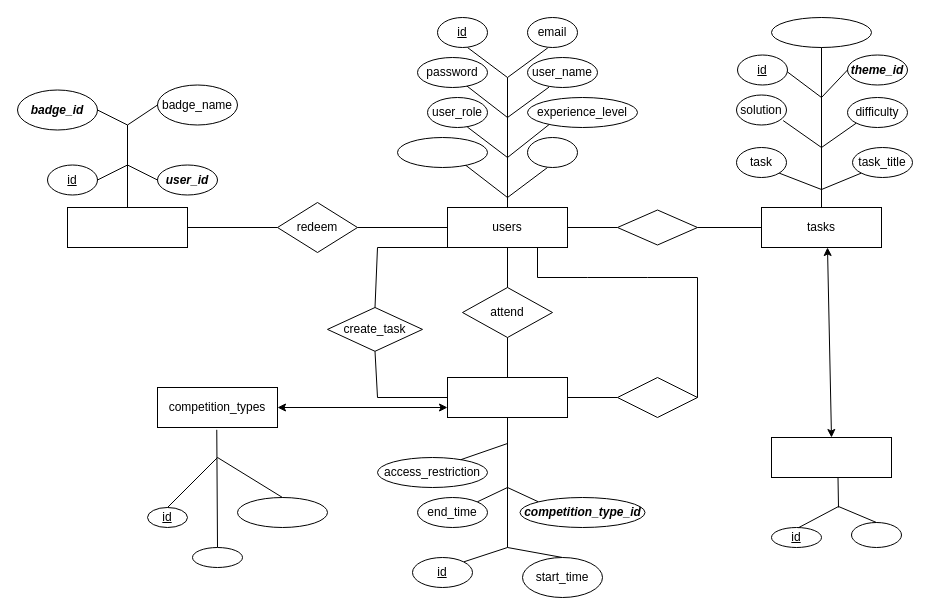
Image size: 930x615. Some labels were removed from this diagram. The shapes that lost their labels are listed below. From the top down, each one's centre as x and y in pixels, then its label:
the point at 821,32: experience_points
the point at 442,152: currency_count
the point at 552,152: join_date
the point at 127,227: badges
the point at 657,227: solve
the point at 507,397: competition
the point at 657,397: submit
the point at 831,457: themes
the point at 282,512: instance_count
the point at 876,535: theme
the point at 217,557: type
